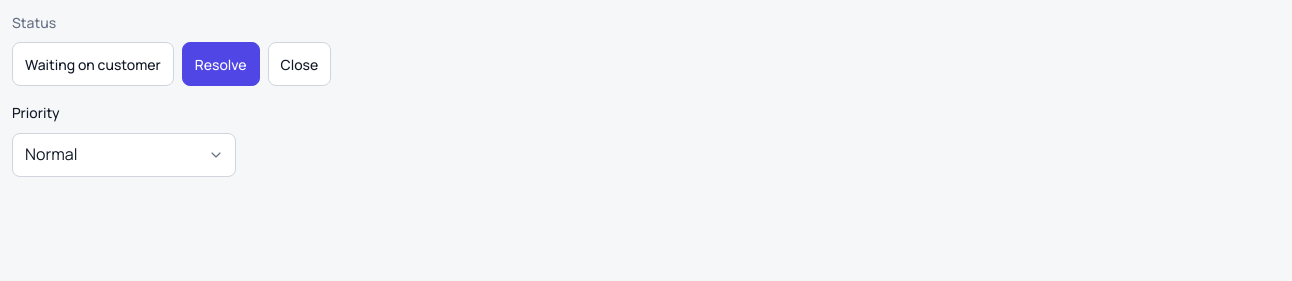
Scenario: reversible moves apply straight away › rolls the priority control back to the server’s value when the change is refused
The width and height of the screenshot is (1292, 281).
Select "Urgent" in the dropdown at [124, 155], box [12, 133, 236, 177]
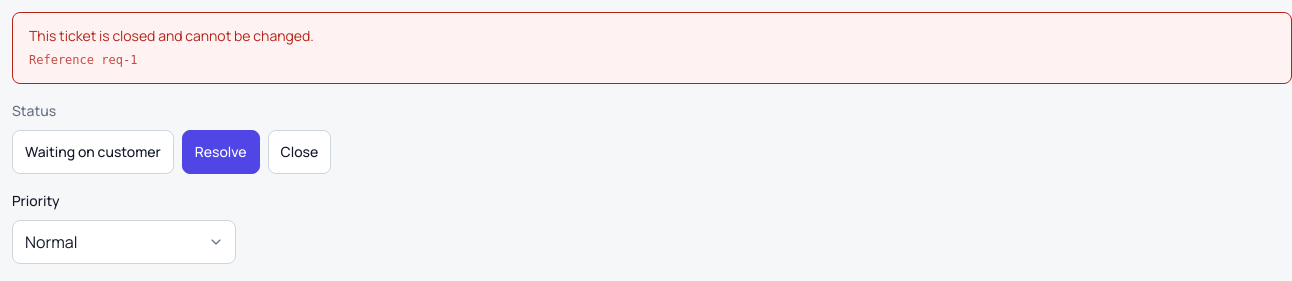
Check: the message shows "This ticket is closed and cannot be changed.", box [29, 26, 314, 45]
